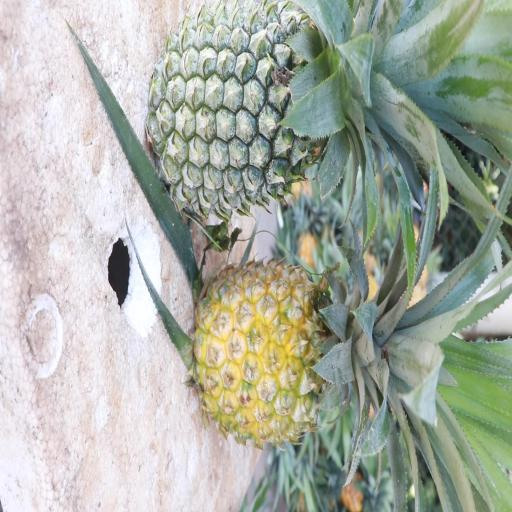Pineapple - v8 v1: (199, 260, 467, 491)
